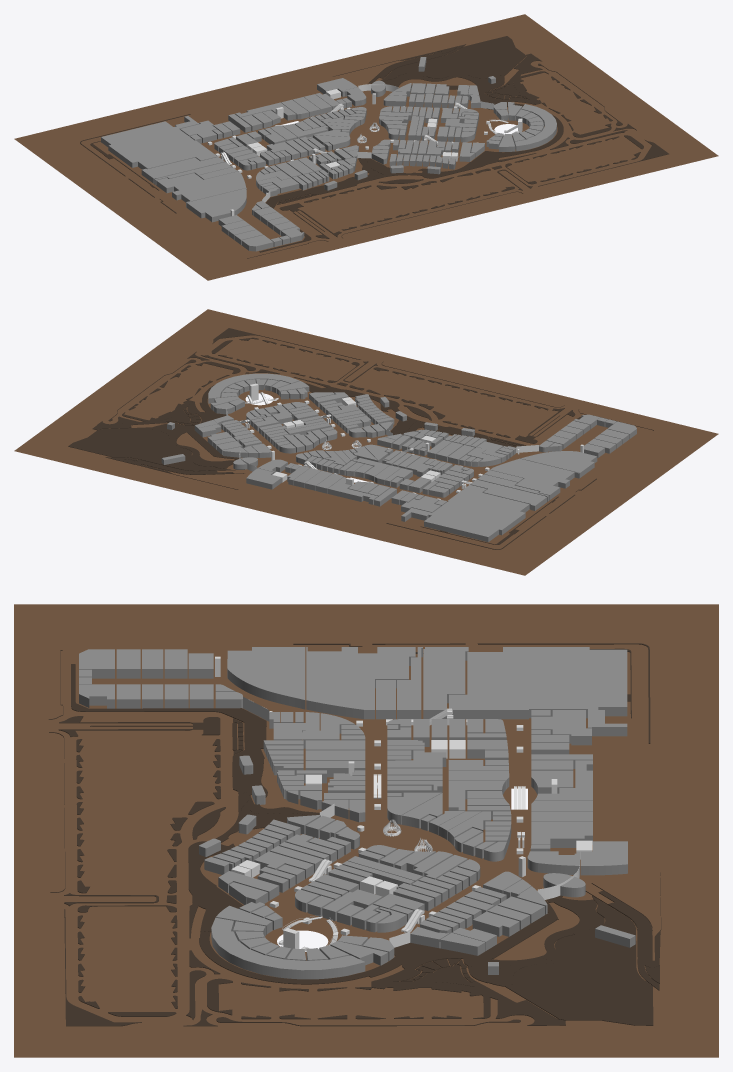
Rendered from Ground floor FBX.FBX.
The picture shows the model from 3 angles, top to bottom: view 1: azimuth 30°, elevation 25°; view 2: azimuth 150°, elevation 25°; view 3: azimuth 270°, elevation 25°; orthographic projection. The views are drawn at different scales.
Parts seen in each view (by area): view 1: Rectangle001, Layer:AREA, G AS1, G AS2, G AS3, G AS12, G 78, G AS8; view 2: Rectangle001, Layer:AREA, G AS1, G AS2, G AS3, G 78, G AS12, G AS7, G FS8X, G AS8; view 3: Rectangle001, Layer:AREA, G AS1, G AS2, G AS3, G AS12, G 78, G FS8X, G AS8, G 80, G AS7, G FS8 (+20 smaller).
Boxes of the visible parts, x1=… form: Rectangle001: x1=14, y1=14, x2=718, y2=280; Layer:AREA: x1=80, y1=36, x2=668, y2=258; G AS1: x1=101, y1=116, x2=217, y2=169; G AS2: x1=156, y1=171, x2=246, y2=207; G AS3: x1=186, y1=188, x2=246, y2=222; G AS12: x1=514, y1=104, x2=556, y2=151; G 78: x1=141, y1=157, x2=224, y2=183; G AS8: x1=180, y1=120, x2=216, y2=142; Rectangle001: x1=14, y1=309, x2=718, y2=575; Layer:AREA: x1=68, y1=328, x2=653, y2=549; G AS1: x1=401, y1=485, x2=529, y2=542; G AS2: x1=490, y1=458, x2=579, y2=500; G AS3: x1=520, y1=451, x2=597, y2=477; G 78: x1=470, y1=479, x2=546, y2=510; G AS12: x1=208, y1=373, x2=299, y2=403; G AS7: x1=327, y1=477, x2=377, y2=504; G FS8X: x1=246, y1=468, x2=281, y2=489; G AS8: x1=401, y1=496, x2=441, y2=512; Rectangle001: x1=14, y1=604, x2=718, y2=1057; Layer:AREA: x1=48, y1=643, x2=661, y2=1026; G AS1: x1=449, y1=647, x2=627, y2=736; G AS2: x1=306, y1=647, x2=415, y2=719; G AS3: x1=227, y1=647, x2=305, y2=709; G AS12: x1=211, y1=917, x2=365, y2=979; G 78: x1=423, y1=647, x2=468, y2=718; G FS8X: x1=580, y1=841, x2=627, y2=875; G AS8: x1=531, y1=710, x2=591, y2=745; G 80: x1=397, y1=647, x2=422, y2=719; G AS7: x1=534, y1=760, x2=592, y2=800; G FS8: x1=527, y1=851, x2=579, y2=874.
Bounding box in the file's own units: 537 × 15.95 × 353.
